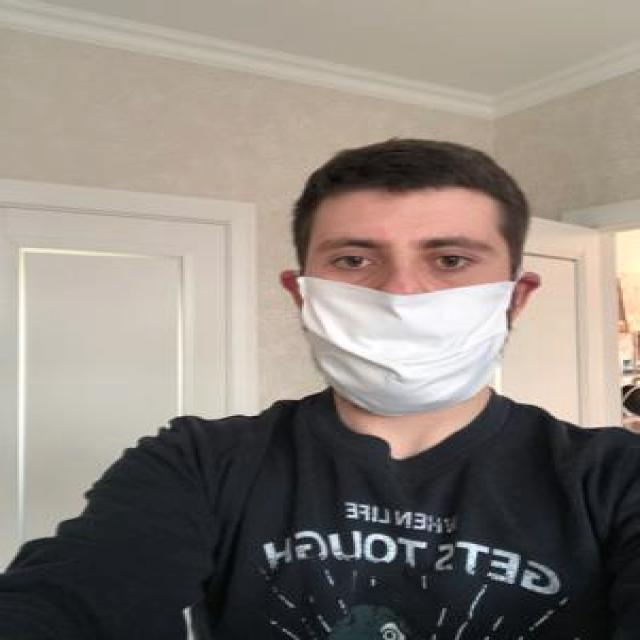face_mask: (294, 216, 514, 414)
head_nohelmet: (278, 134, 544, 222)
person: (204, 142, 593, 640)
